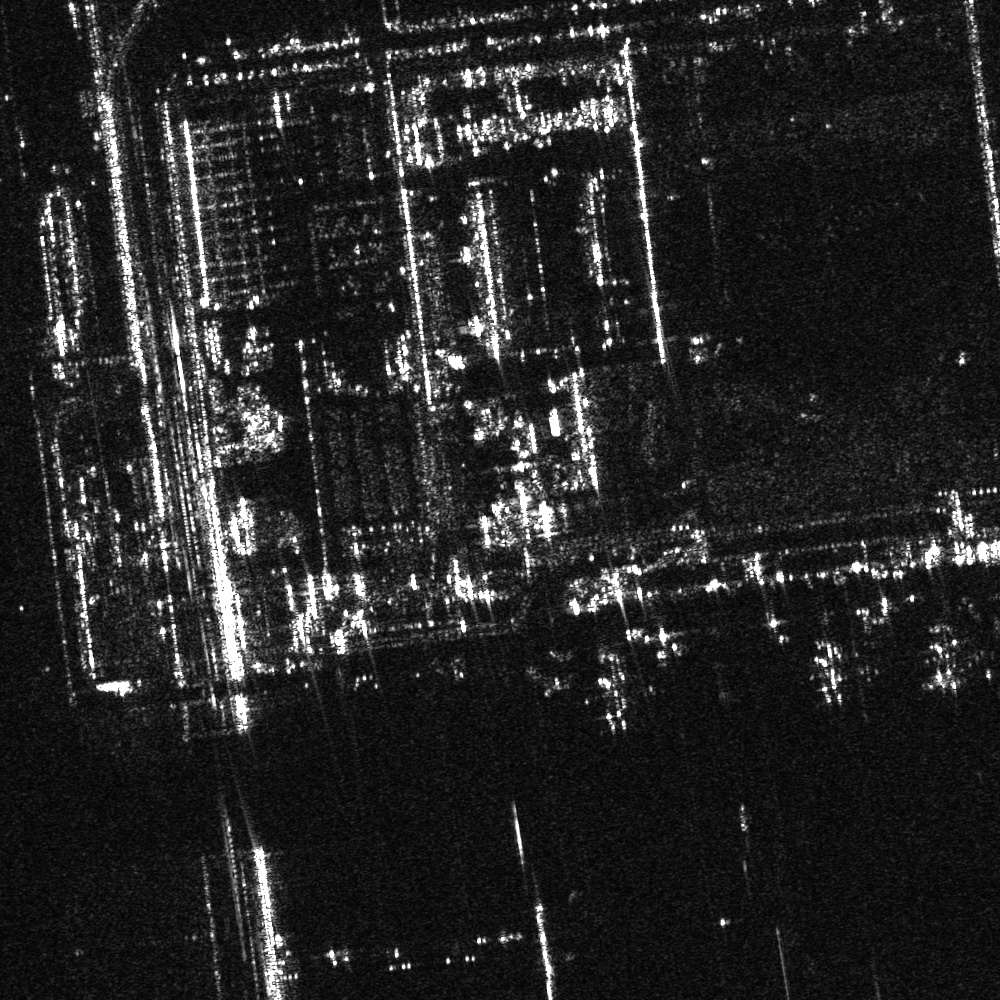Boeing787: (584, 651, 656, 734), (796, 632, 865, 709), (918, 626, 981, 694)
